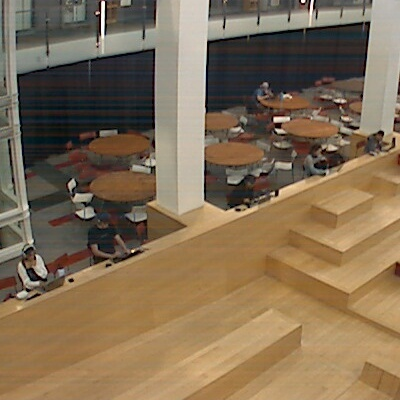head: (20, 241, 42, 263), (96, 212, 116, 232), (241, 173, 258, 190), (308, 144, 323, 159), (259, 79, 271, 91), (373, 130, 384, 141)
